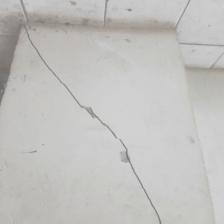Medium: (34, 49, 162, 215)
